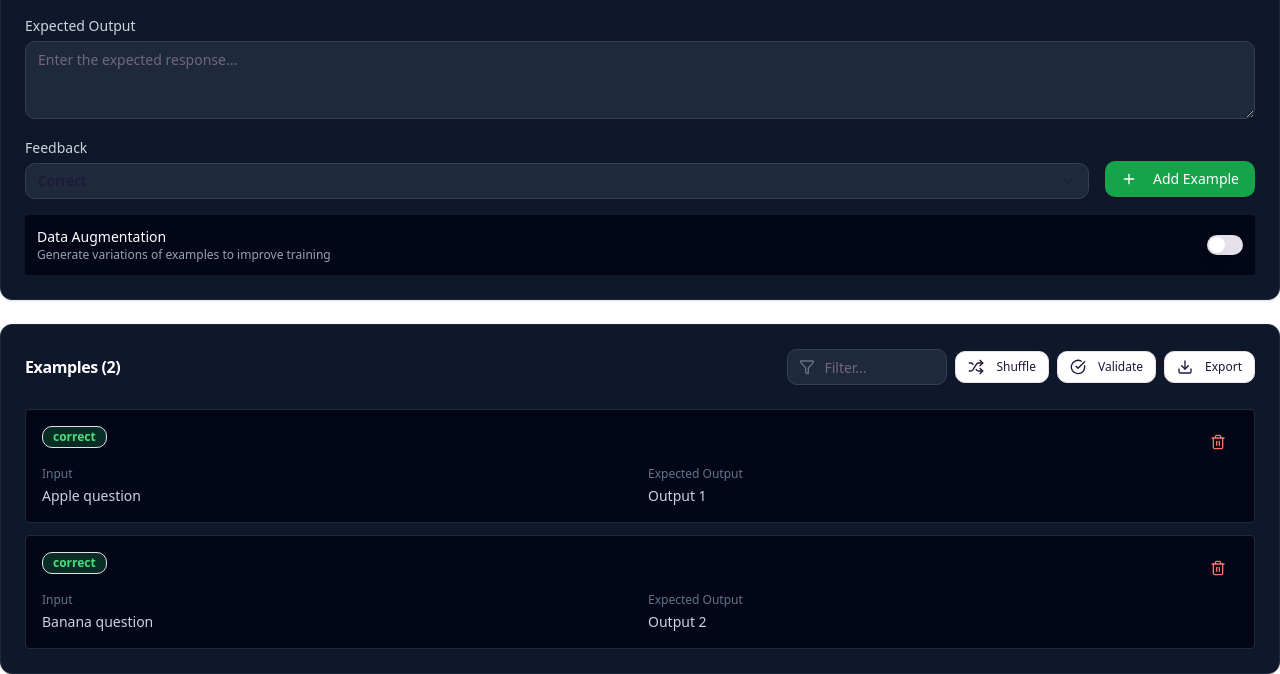
Scenario: TrainingDatasetManager Component › Filter › should filter examples by search text
This screenshot has width=1280, height=674.
(page scrolled)
Type "Apple" into the field with placeholder "Filter..." at x=867, y=367, box [787,349,947,385]
(page scrolled)
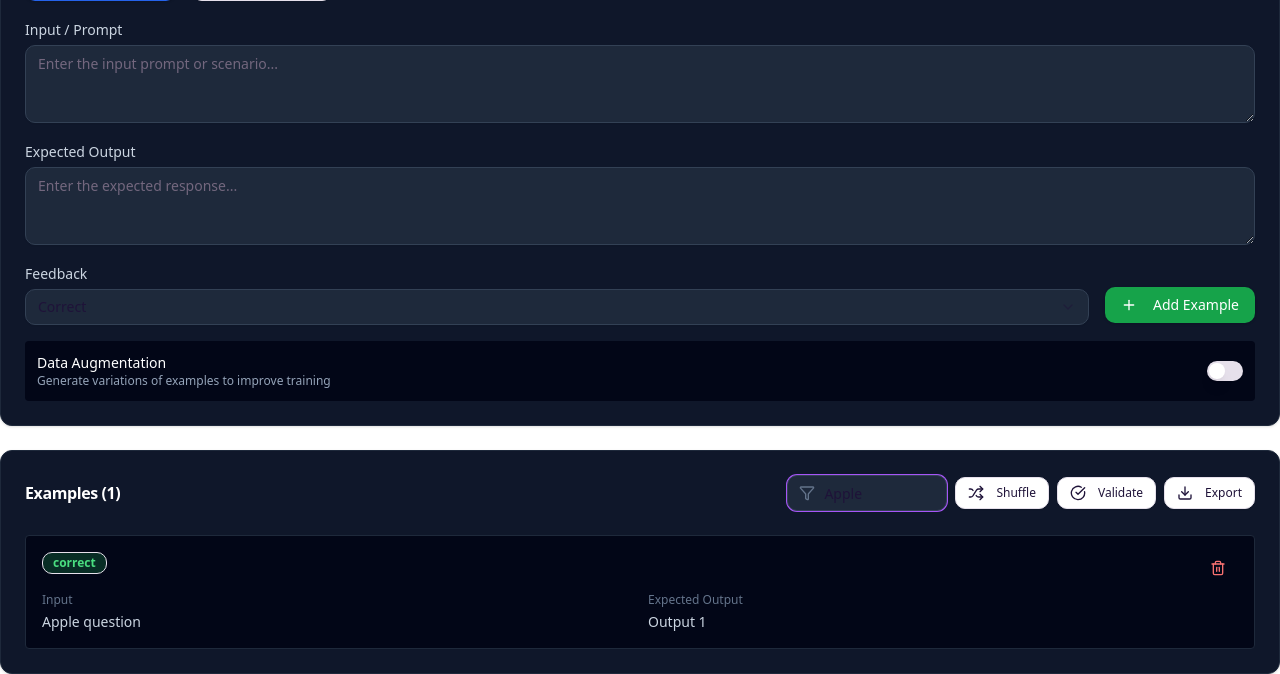
Expected: the text "Apple question" is shown, [42,612,141,631]
Now the text "Banana question" is gone
